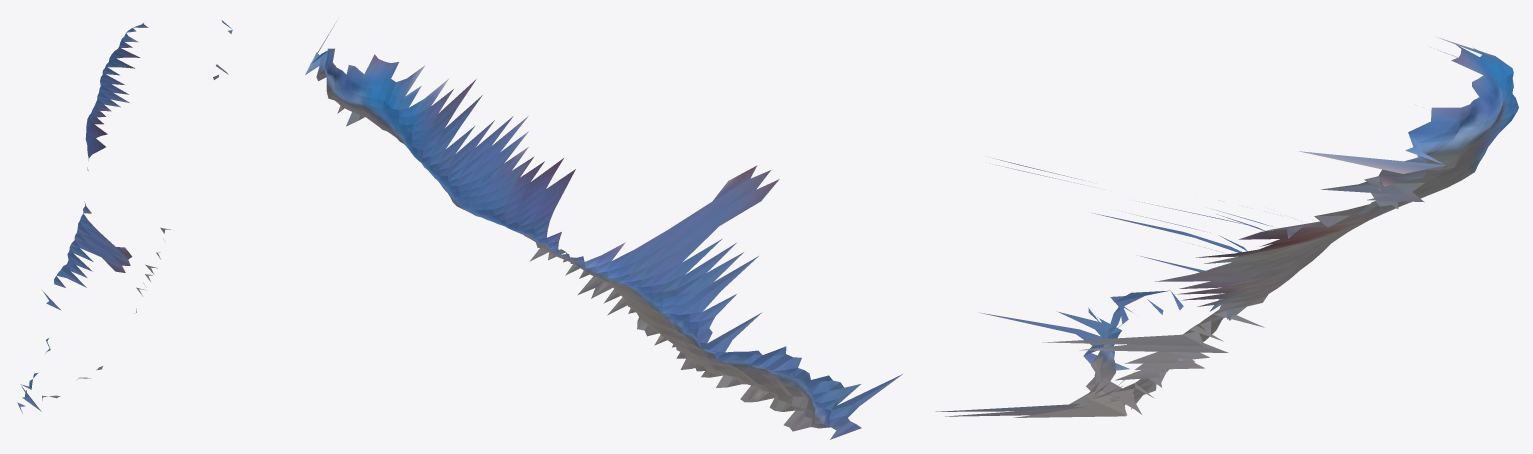
The model's file is observed-surface.glb.
3 renders of one model, left to right at view 1: azimuth 30°, elevation 25°; view 2: azimuth 150°, elevation 25°; view 3: azimuth 270°, elevation 25°, orthographic. The views are drawn at different scales.
Visible parts, largest first — view 1: geometry_0; view 2: geometry_0; view 3: geometry_0.
Part boxes in pixels (x1,y1,x2,y2): geometry_0: (17,20,232,413); geometry_0: (305,21,902,439); geometry_0: (935,37,1518,417).
Bounding box in the file's own units: 0.3715 × 0.3127 × 0.2999.
1 material, 1 textured.
